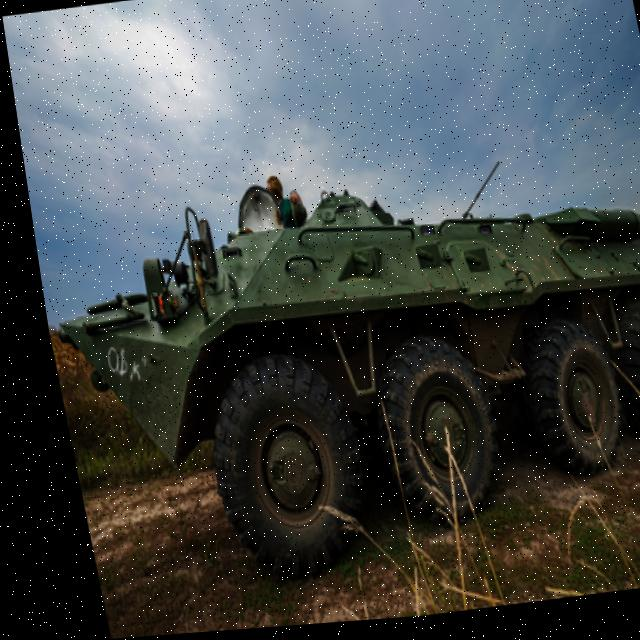MIL_APC: (22, 153, 640, 589)
